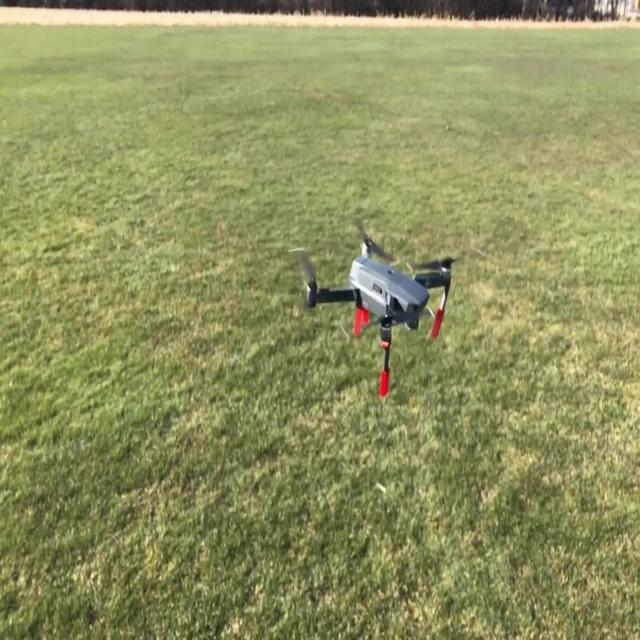UAV: (289, 220, 461, 398)
